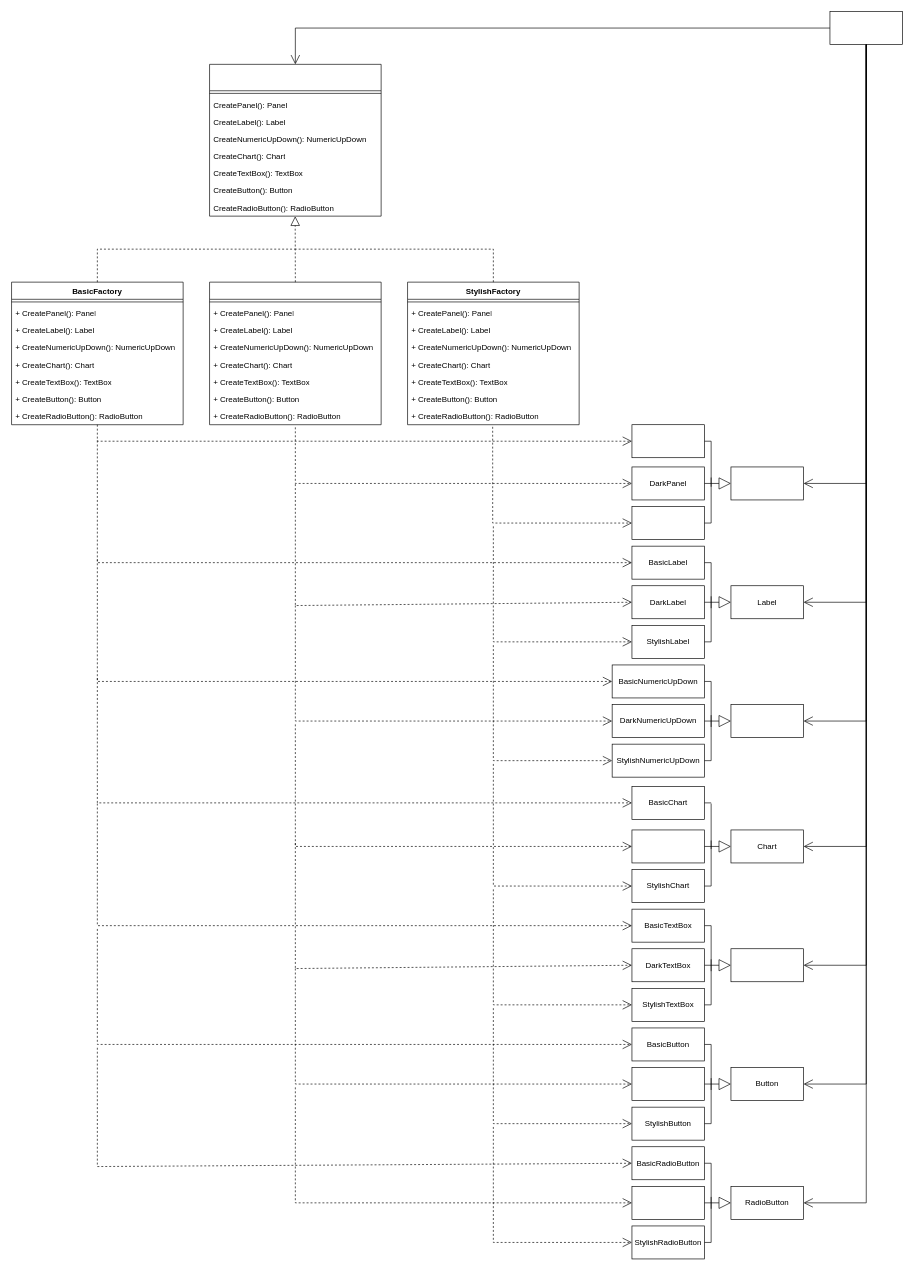
This 914x1271 diagram has some shape labels left out. The box of each missing label's shape, as (x1, y1, x2, y2) in pixels:
BasicPanel: (631, 424, 705, 458)
Client: (829, 11, 903, 45)
DarkButton: (631, 1067, 705, 1101)
DarkChart: (631, 829, 705, 863)
DarkFactory: (209, 281, 381, 425)
DarkRadioButton: (631, 1186, 705, 1219)
NumericUpDown: (730, 704, 804, 738)
Panel: (730, 466, 804, 500)
StylishPanel: (631, 506, 705, 540)
TextBox: (730, 948, 804, 982)
«interface» IFactory: (209, 64, 381, 216)
